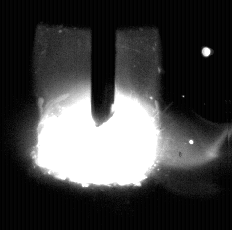arame: (92, 0, 115, 126)
poca: (36, 0, 160, 230)
